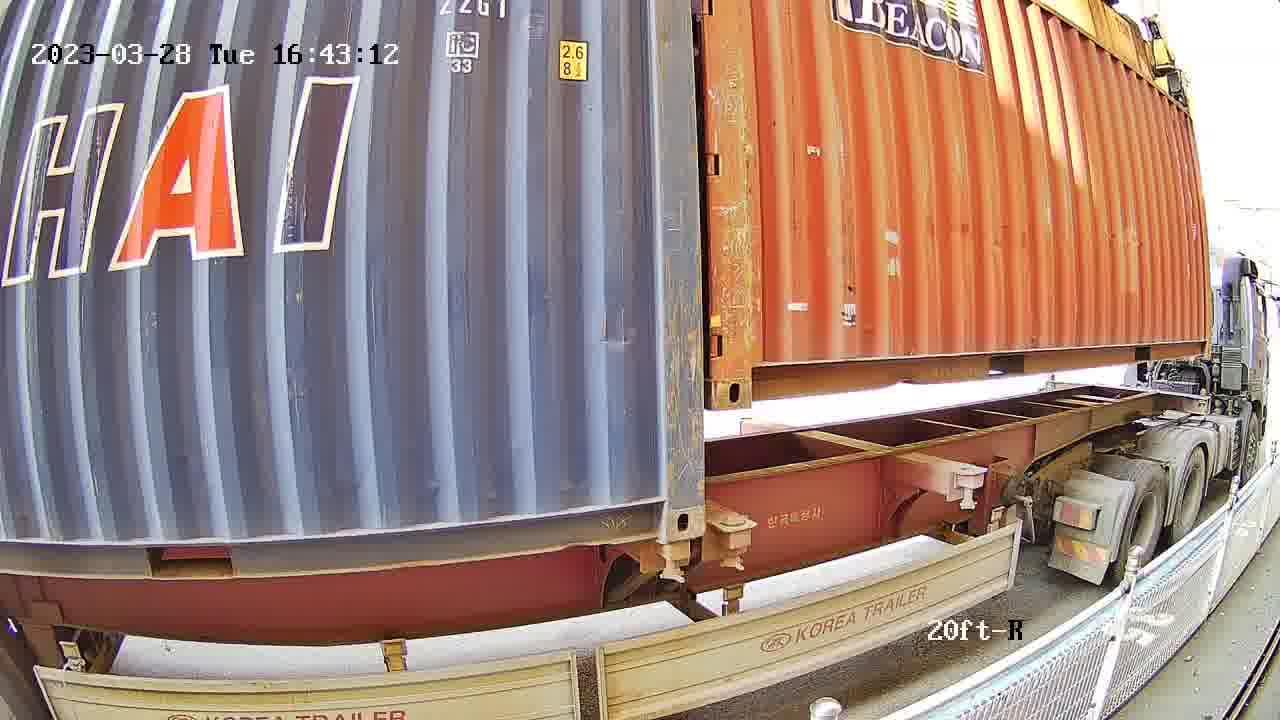Cone: (708, 514, 756, 571), (653, 540, 691, 584)
Hole_L: (711, 333, 785, 410)
Hole_R: (621, 464, 705, 542)
Tire: (1118, 467, 1166, 583), (1175, 449, 1205, 539)
